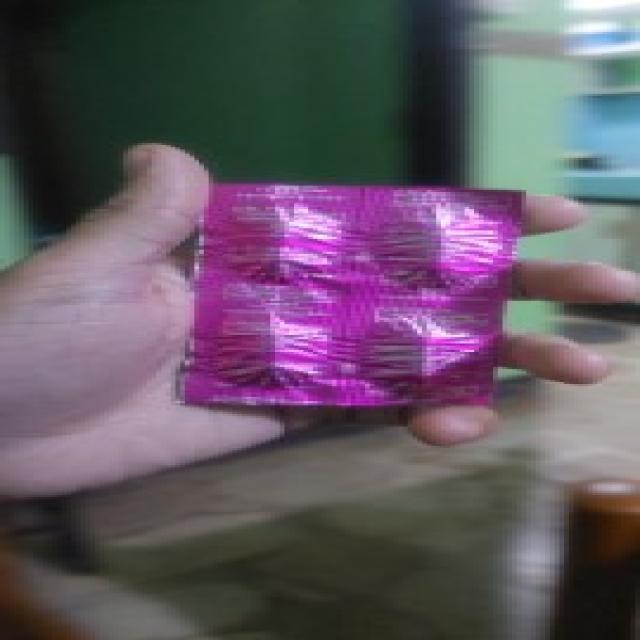Cacat: (173, 185, 526, 408)
